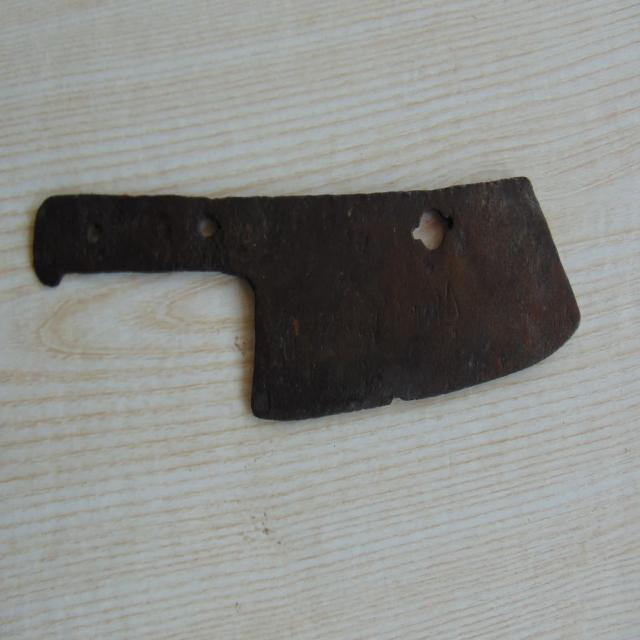cleaver: (38, 201, 574, 396)
